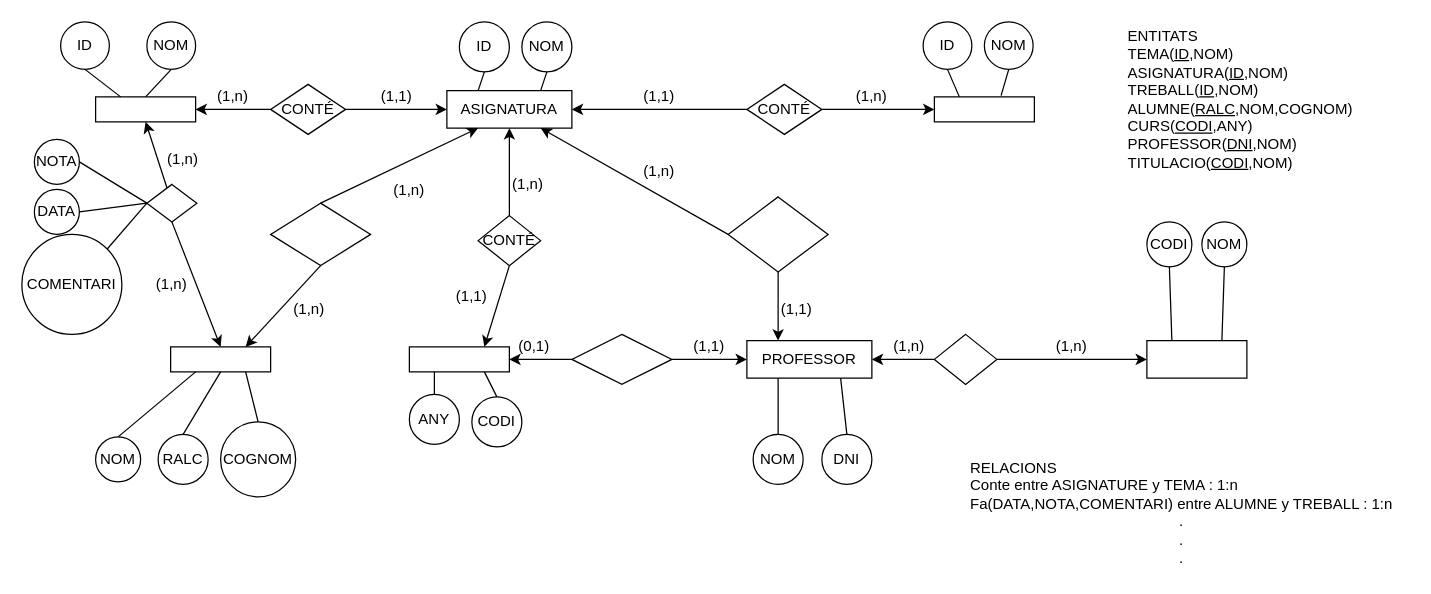
This 1431x594 diagram has some shape labels left out. Here are the shapes that lost their labels. From the top down, the centre of each, then its label:
the point at 145,109: TREBALL
the point at 983,109: TEMA
the point at 171,202: FA
the point at 320,234: MATRÍCULA
the point at 777,234: IMPARTEIX
the point at 220,359: ALUMNE
the point at 458,359: CURS
the point at 621,358: TUTORITZA
the point at 965,358: TÉ
the point at 1196,358: TITULACIÓ
